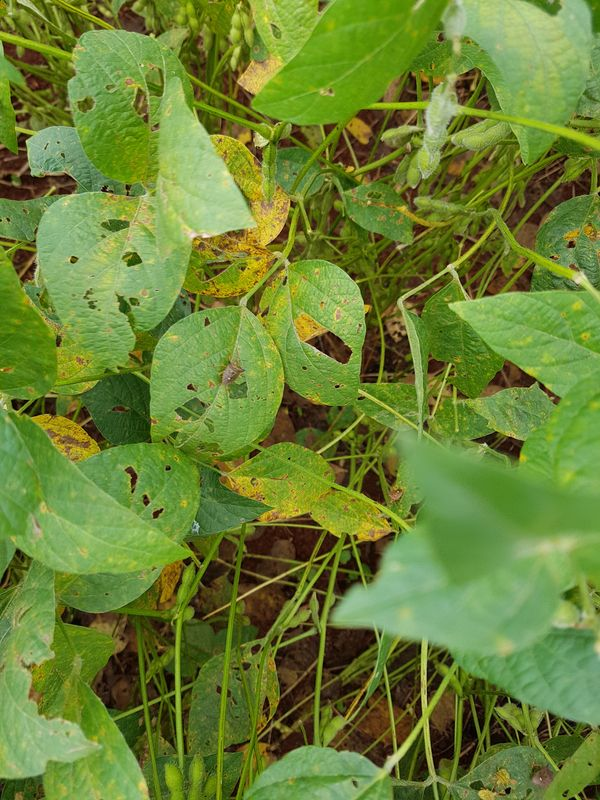Euschistus_heros_adulto: (215, 353, 249, 393), (527, 761, 559, 791), (386, 486, 405, 506)
Euschistus_heros_ninfa: (492, 765, 513, 790), (474, 786, 499, 800)
